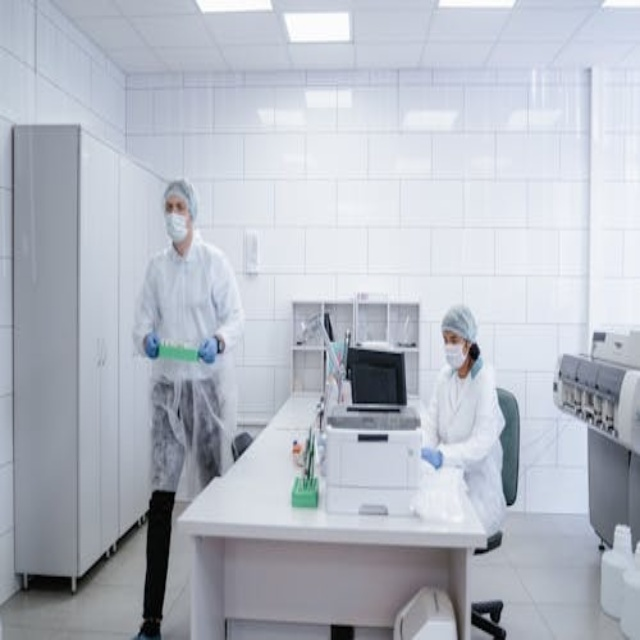Guantes: (198, 337, 218, 364), (421, 447, 443, 469), (145, 334, 160, 358)
Mascara: (165, 211, 190, 243), (444, 340, 469, 370)
Sin_gafas: (164, 196, 188, 217), (442, 329, 463, 350)
